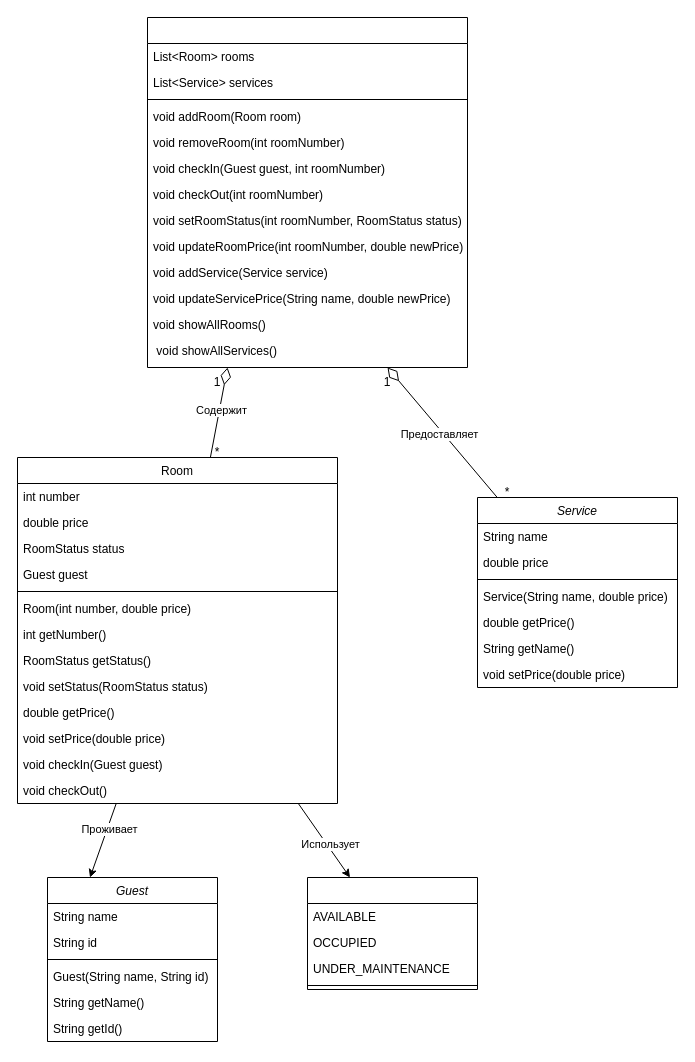
Image size: 695x1062. Some labels were removed from this diagram. The box of each missing label's shape, as (x1, y1, x2, y2) in pixels:
Hotel: (146, 16, 468, 368)
RoomStatus: (306, 876, 478, 990)
